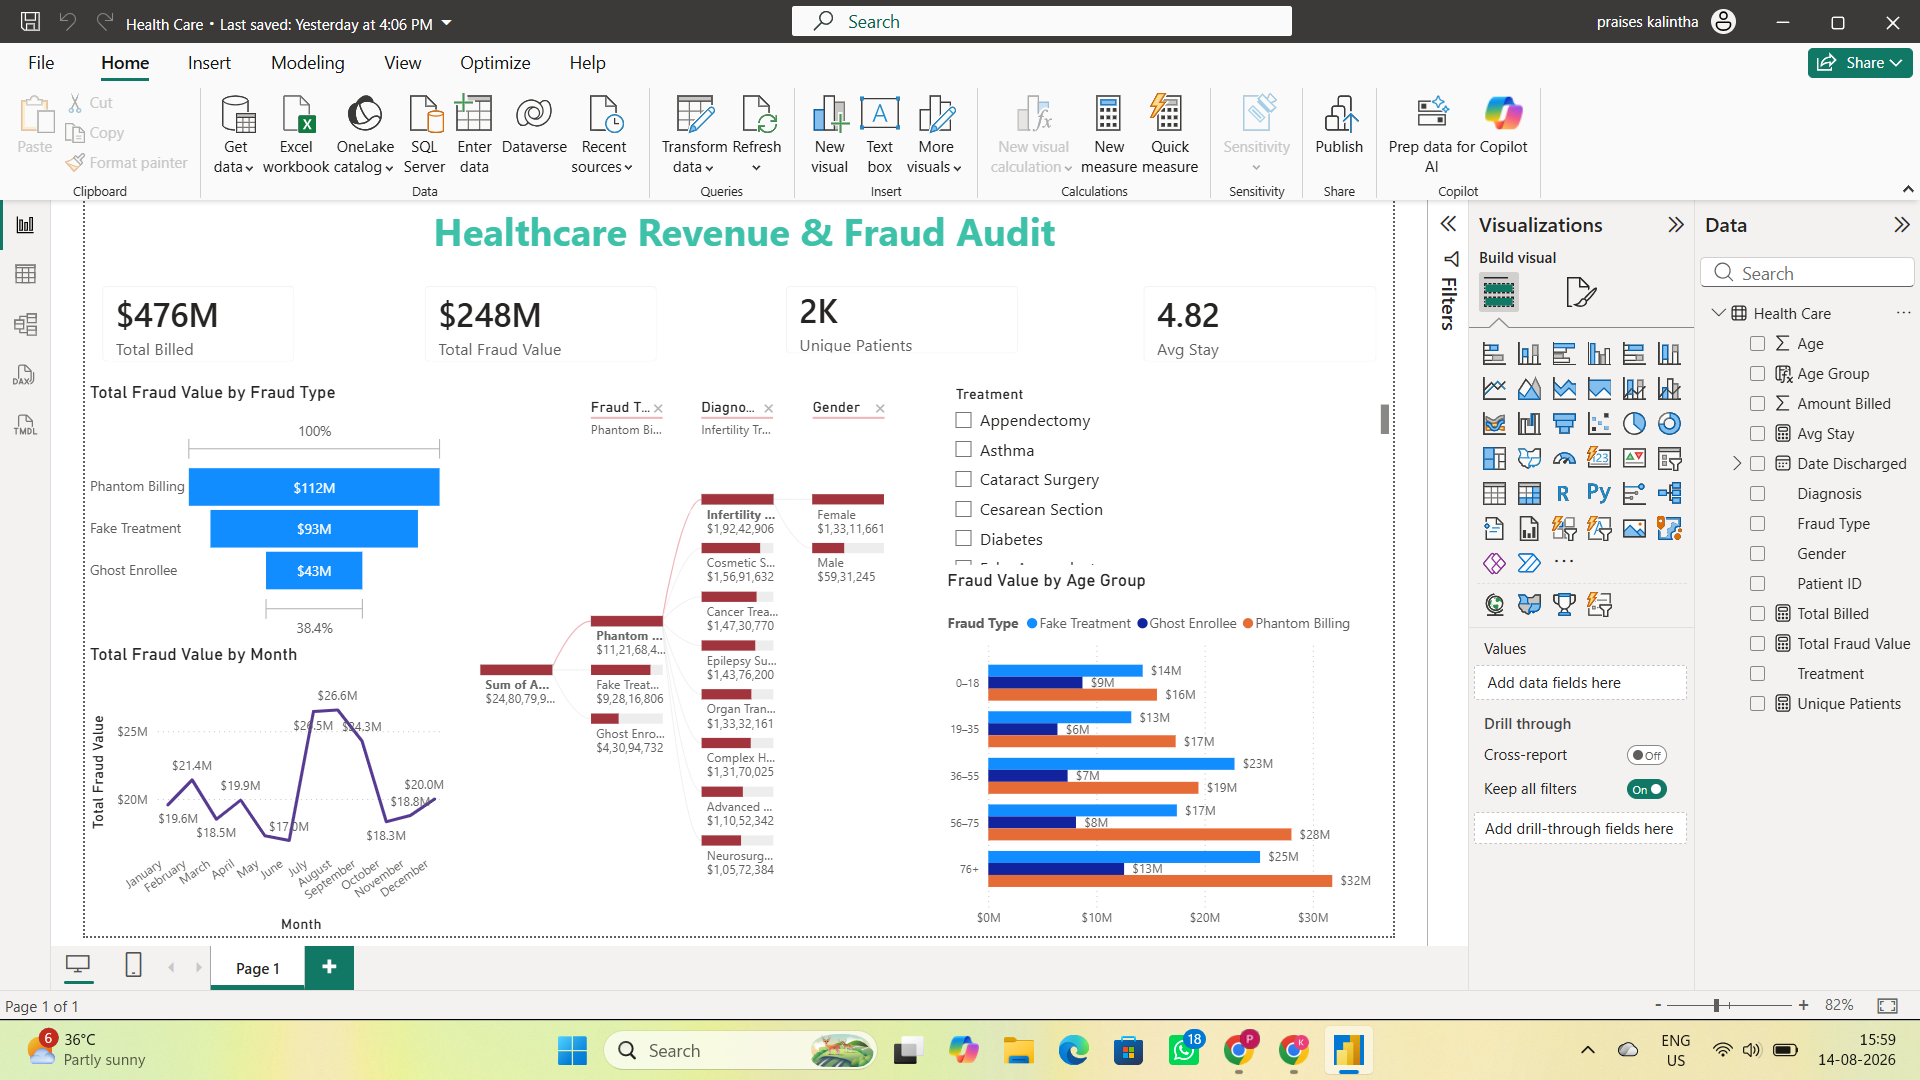

The page's visual inventory and layout, read from the dashboard file:
{"tool":"powerbi","page":{"name":"Page 1","canvas":[1280,720],"ordinal":0},"visuals":[{"type":"textbox","box":[9.6,0,1270.7,76.8],"z":0},{"type":"cardVisual","fields":{"Data":["Health Care.Total Billed"]},"box":[0,67.3,222.6,108.8],"z":1000},{"type":"cardVisual","fields":{"Data":["Health Care.Total Fraud Value"]},"box":[315.5,67.3,261.7,108.8],"z":2000},{"type":"cardVisual","fields":{"Data":["Health Care.Unique Patients"]},"box":[668.9,67.3,261.7,100.3],"z":3000},{"type":"cardVisual","fields":{"Data":["Health Care.Avg Stay (Days)"]},"box":[1018.6,67.3,262.1,108.4],"z":4000},{"type":"lineChart","fields":{"Category":["Health Care.Date Discharged.Variation.Date Hierarchy.Month"],"Y":["Health Care.Total Fraud Value"]},"box":[0,434.1,356.8,286.8],"z":6000},{"type":"clusteredBarChart","title":"Fraud Value by Age Group","fields":{"Category":["Health Care.Age Group"],"Series":["Health Care.Fraud Type"],"Y":["Health Care.Total Fraud Value"]},"box":[838.9,362,441.4,358.3],"z":7000},{"type":"decompositionTreeVisual","fields":{"Analyze":["Sum(Health Care.Amount Billed)"],"ExplainBy":["Health Care.Fraud Type","Health Care.Diagnosis","Health Care.Gender"]},"box":[357.1,177.3,481.8,542.9],"z":9000},{"type":"funnel","fields":{"Category":["Health Care.Fraud Type"],"Y":["Health Care.Total Fraud Value"]},"box":[0,177.3,357.1,256.8],"z":9001},{"type":"slicer","fields":{"Values":["Health Care.Treatment"]},"box":[838.9,176.1,441.4,185.9],"z":9002}]}

Visuals, with their boxes on the page's 1280x720 design canvas (x1, y1, x2, y2). These are canvas units, not pixel positions in the 1920x1080 screenshot, which may show the page scaled, cropped or inside an application window:
textbox: 10, 0, 1280, 77
cardVisual - Health Care.Total Billed: 0, 67, 223, 176
cardVisual - Health Care.Total Fraud Value: 316, 67, 577, 176
cardVisual - Health Care.Unique Patients: 669, 67, 931, 168
cardVisual - Health Care.Avg Stay (Days): 1019, 67, 1281, 176
lineChart - Health Care.Date Discharged.Variation.Date Hierarchy.Month x Health Care.Total Fraud Value: 0, 434, 357, 721
"Fraud Value by Age Group" clusteredBarChart: 839, 362, 1280, 720
decompositionTreeVisual - Sum(Health Care.Amount Billed) x Health Care.Fraud Type: 357, 177, 839, 720
funnel - Health Care.Fraud Type x Health Care.Total Fraud Value: 0, 177, 357, 434
slicer - Health Care.Treatment: 839, 176, 1280, 362
